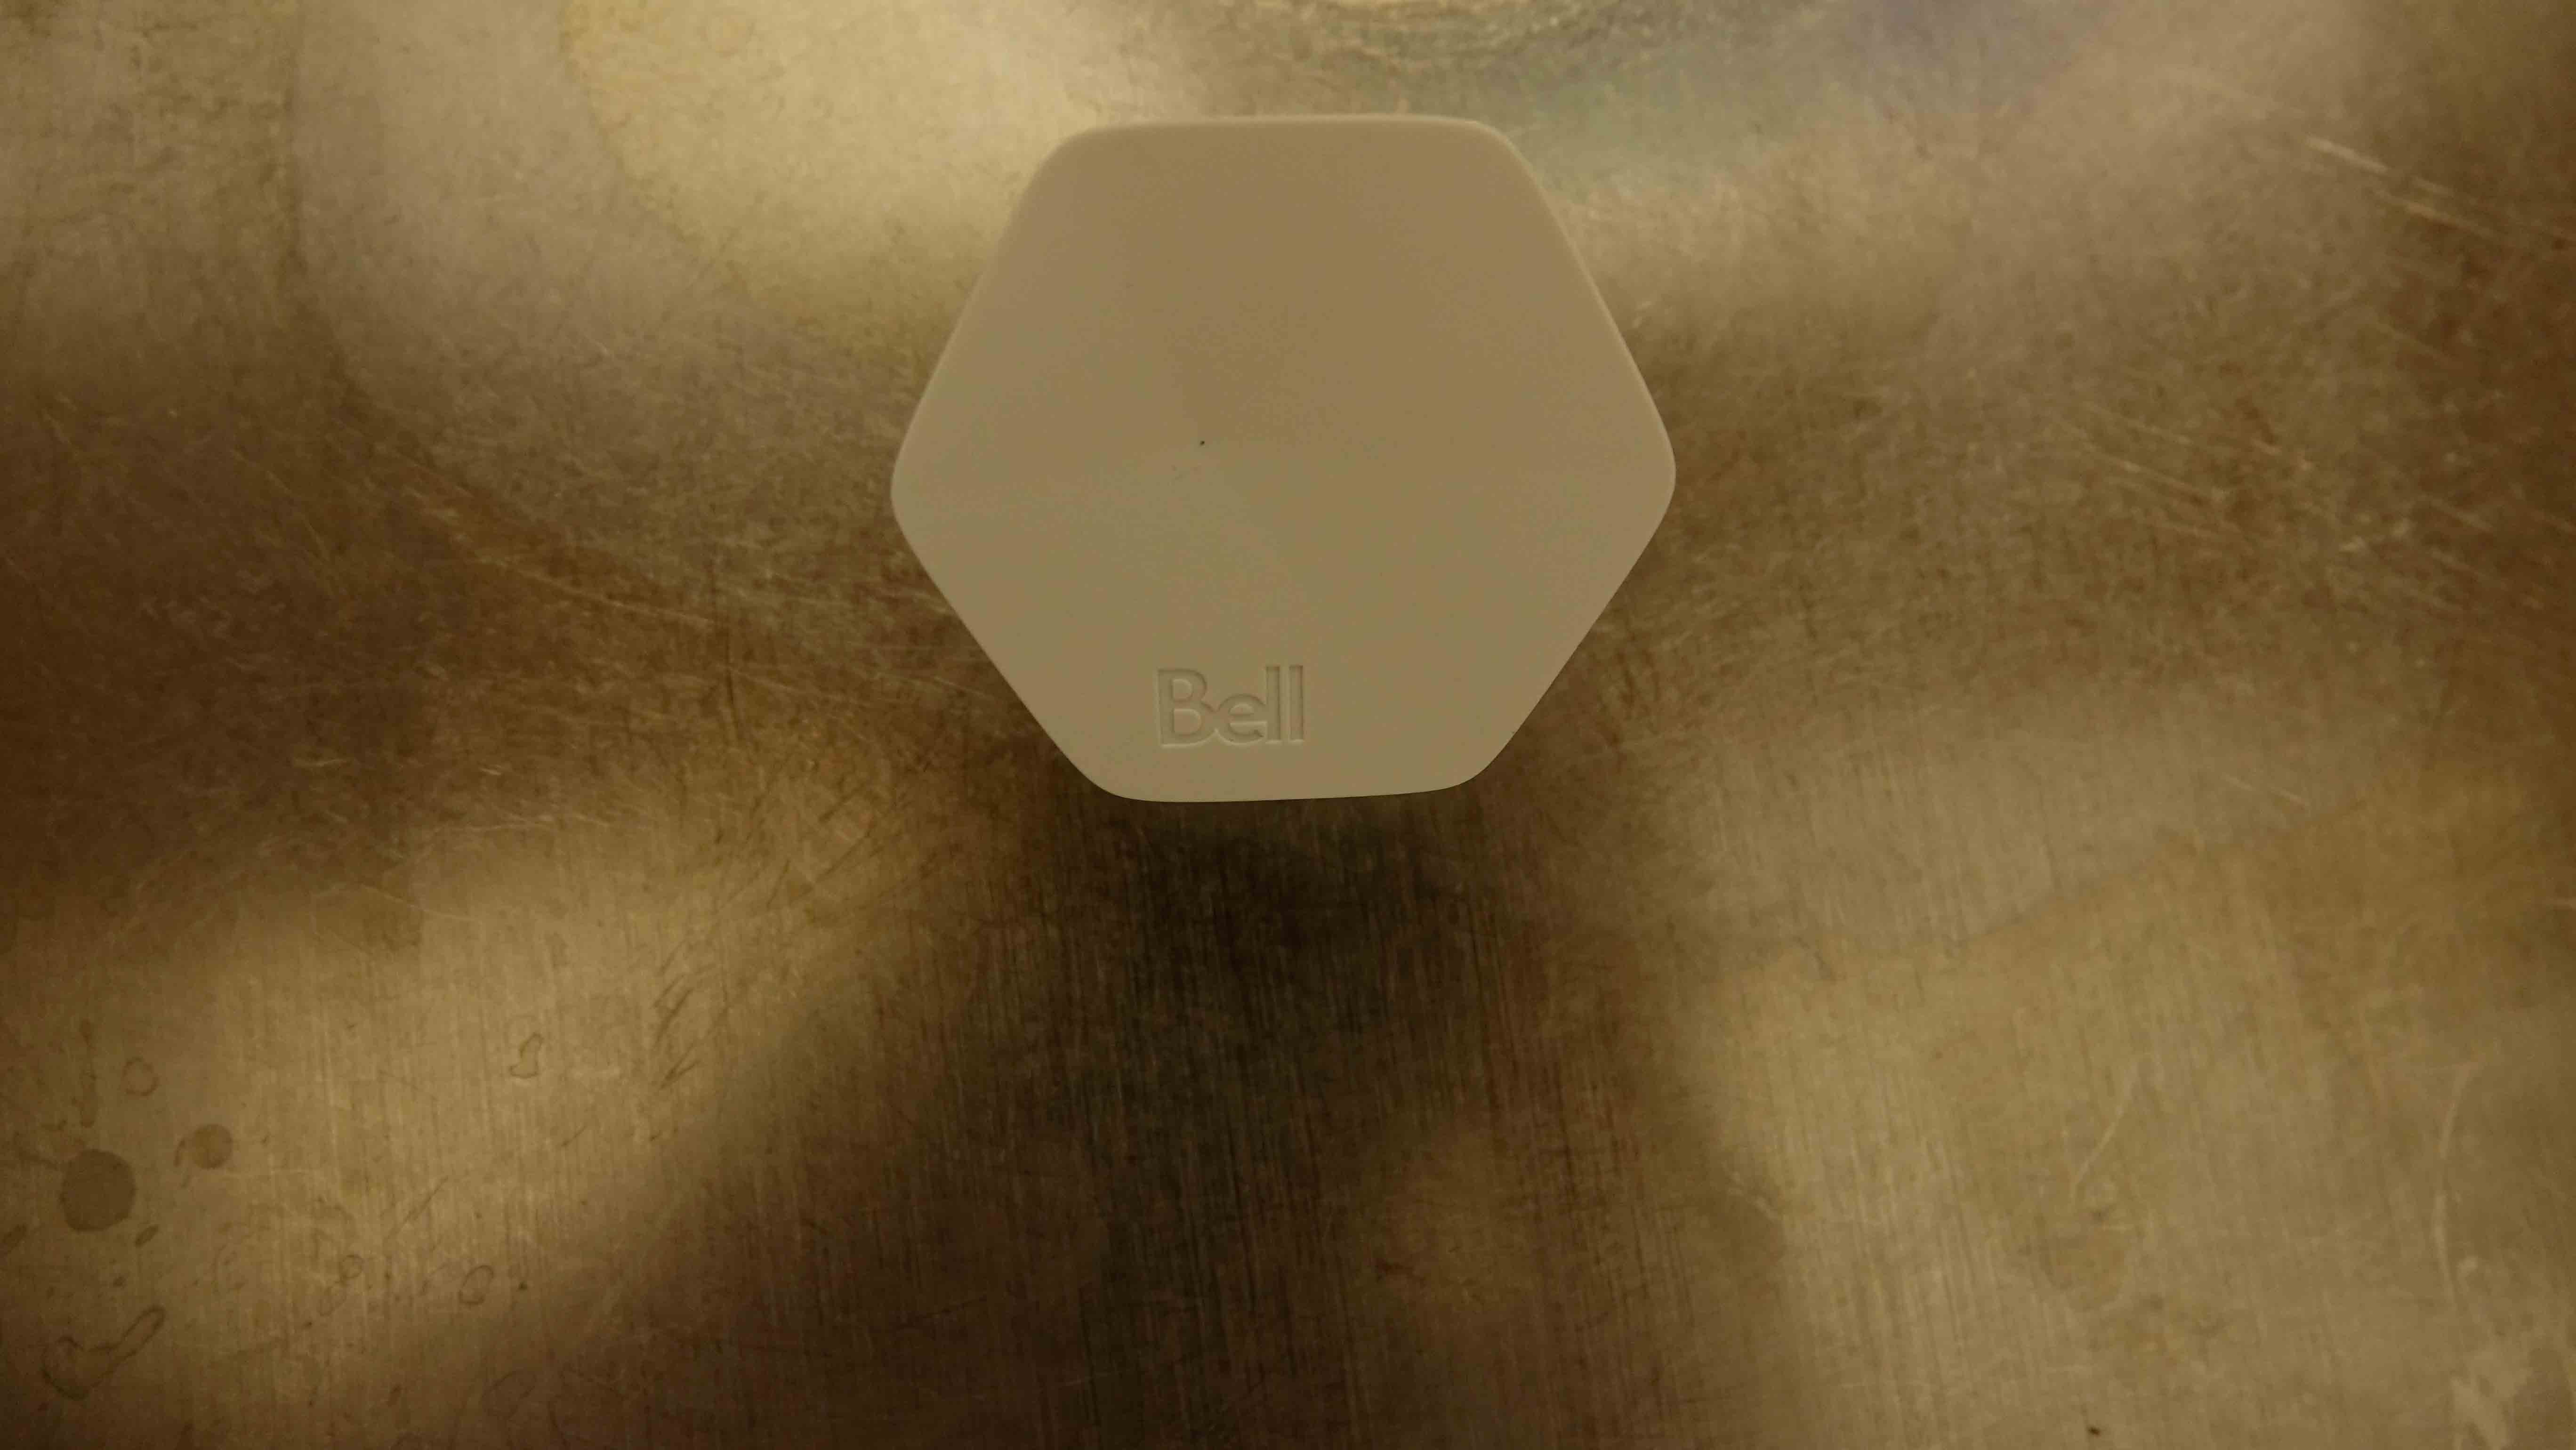pod: (870, 101, 1697, 831)
